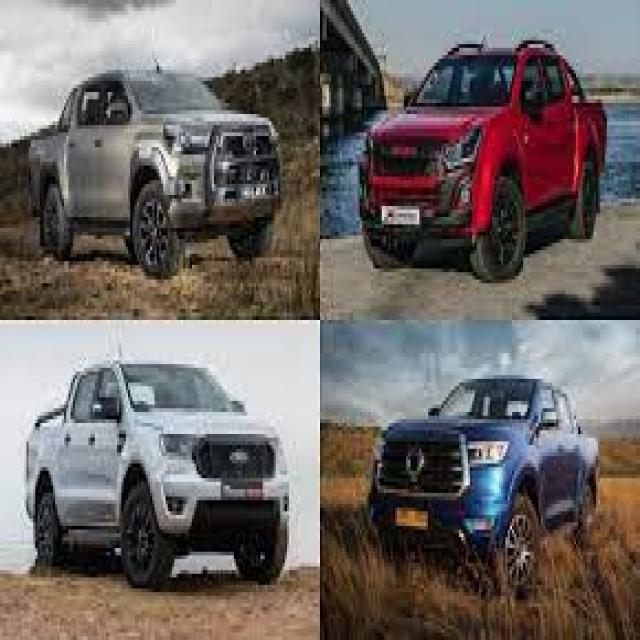Pickup Trucks: (27, 361, 292, 592), (360, 44, 609, 283), (26, 62, 282, 276), (368, 375, 604, 589)
